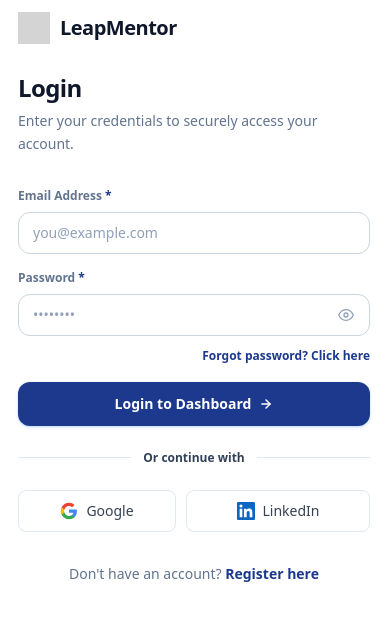
LoginForm › shows password error when loginUser is rejected
Type "a@b.com" into the field with placeholder "you@example.com" at (194, 232), box top-left (18, 212), bottom-right (370, 254)
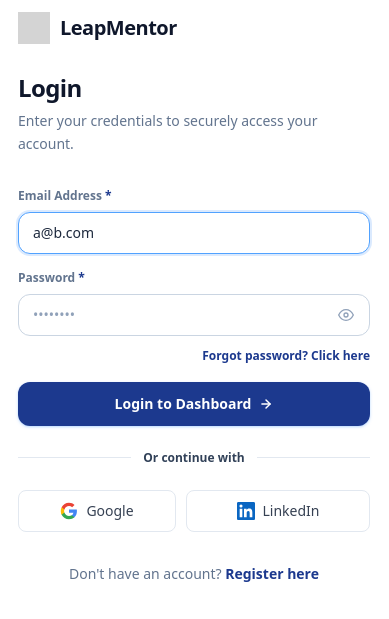
Type "password123" into the password field with placeholder "••••••••" at (194, 314), box top-left (18, 294), bottom-right (370, 336)
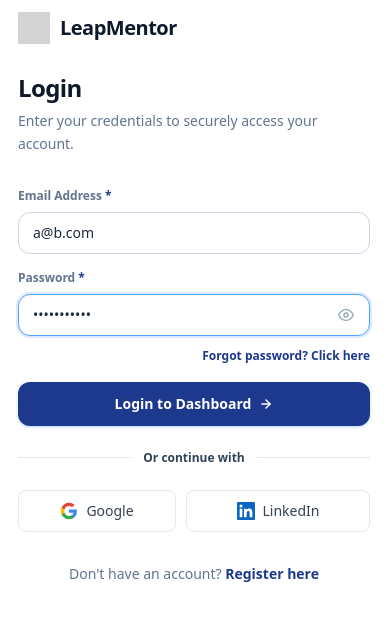
Click the button "Login to Dashboard" at (194, 404), box top-left (18, 382), bottom-right (370, 426)
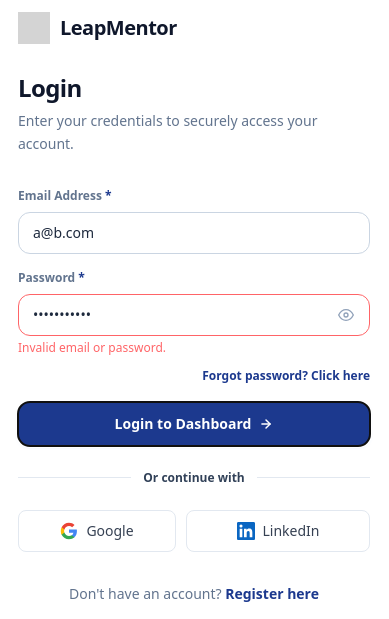
expect the text "Invalid email or password." is shown: met, box top-left (18, 338), bottom-right (166, 356)
